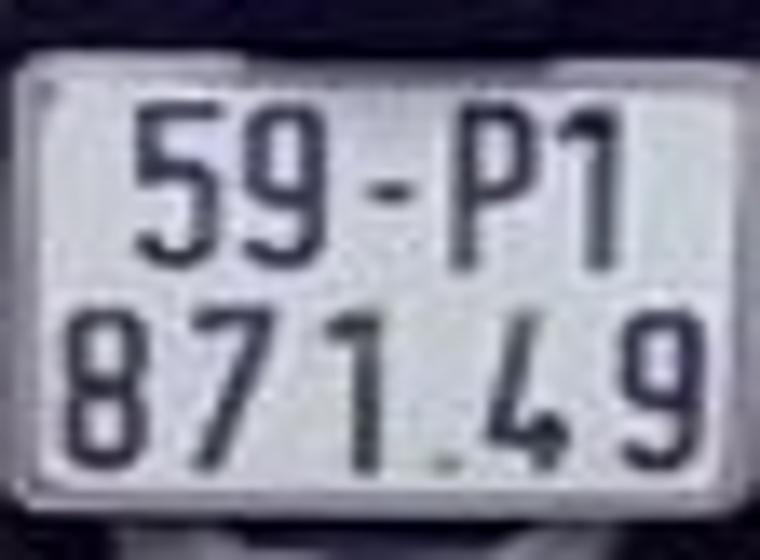-: (357, 175, 413, 201)
.: (422, 447, 464, 479)
1: (321, 309, 396, 479), (554, 106, 625, 268)
4: (483, 303, 567, 479)
5: (133, 102, 216, 267)
7: (186, 312, 272, 477)
8: (63, 315, 151, 468)
9: (615, 307, 701, 475), (244, 100, 329, 268)
P: (451, 101, 532, 270)
